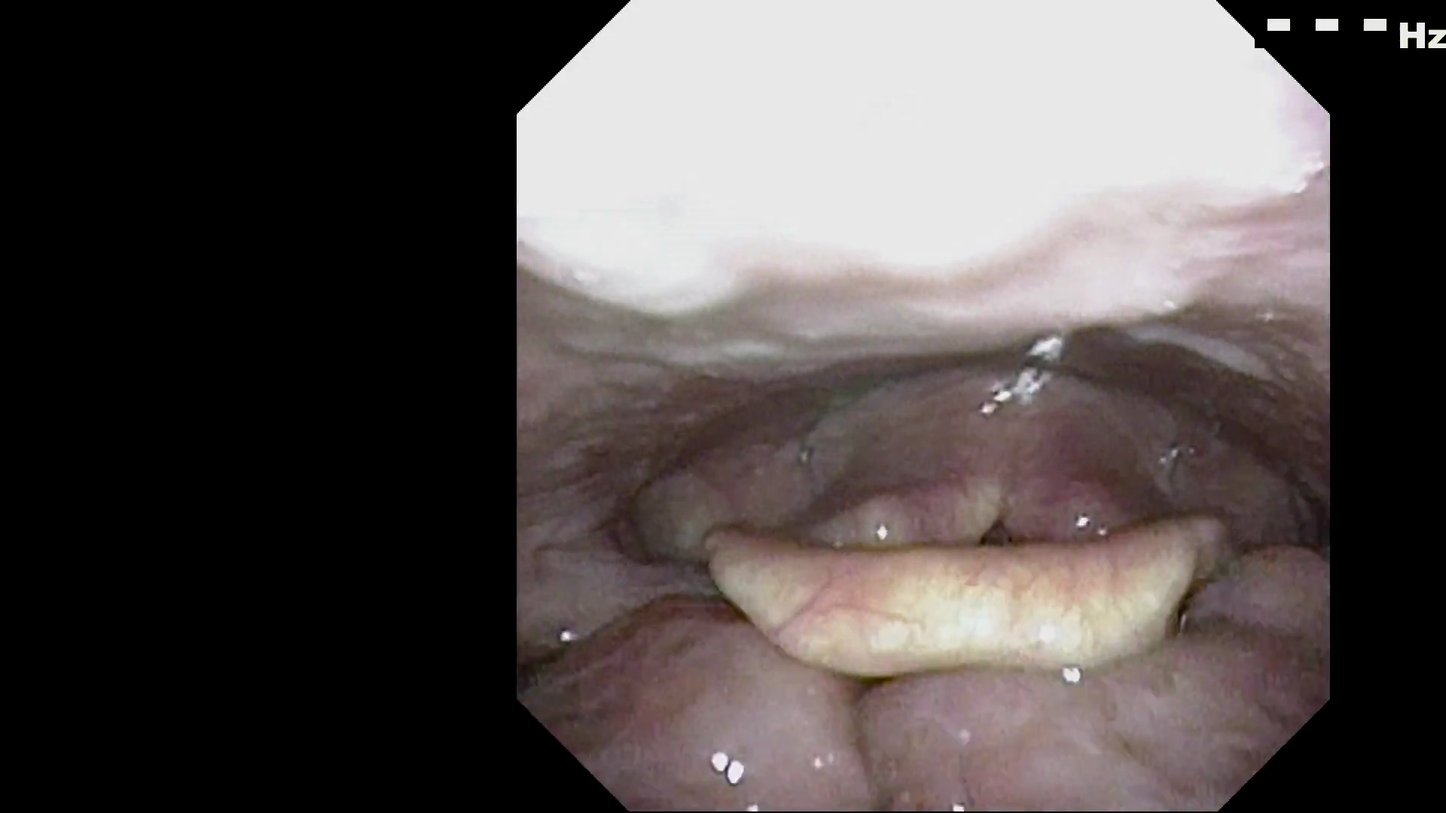epiglottis: (692, 512, 1234, 651)
